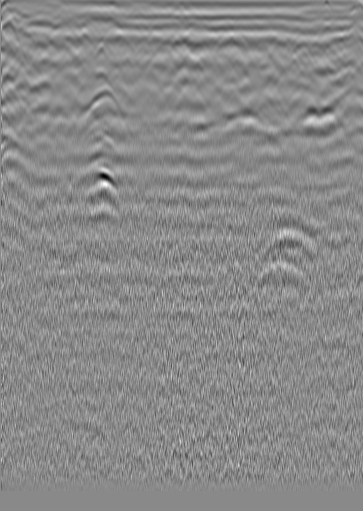가스: (74, 168, 126, 200)
상수: (326, 33, 346, 53)
오수: (22, 30, 42, 50)
우수: (173, 34, 193, 54)
